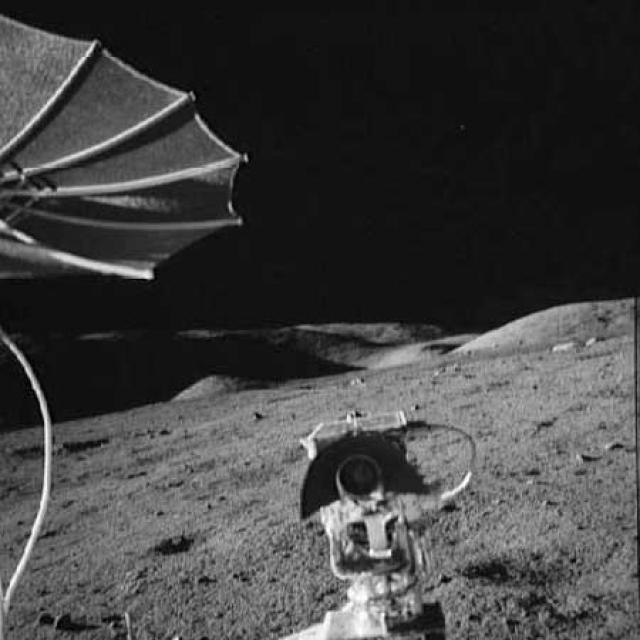artifact: (0, 13, 248, 285), (275, 405, 484, 639), (0, 325, 66, 632)
crater: (476, 548, 626, 586), (16, 431, 123, 458), (146, 525, 216, 555)
